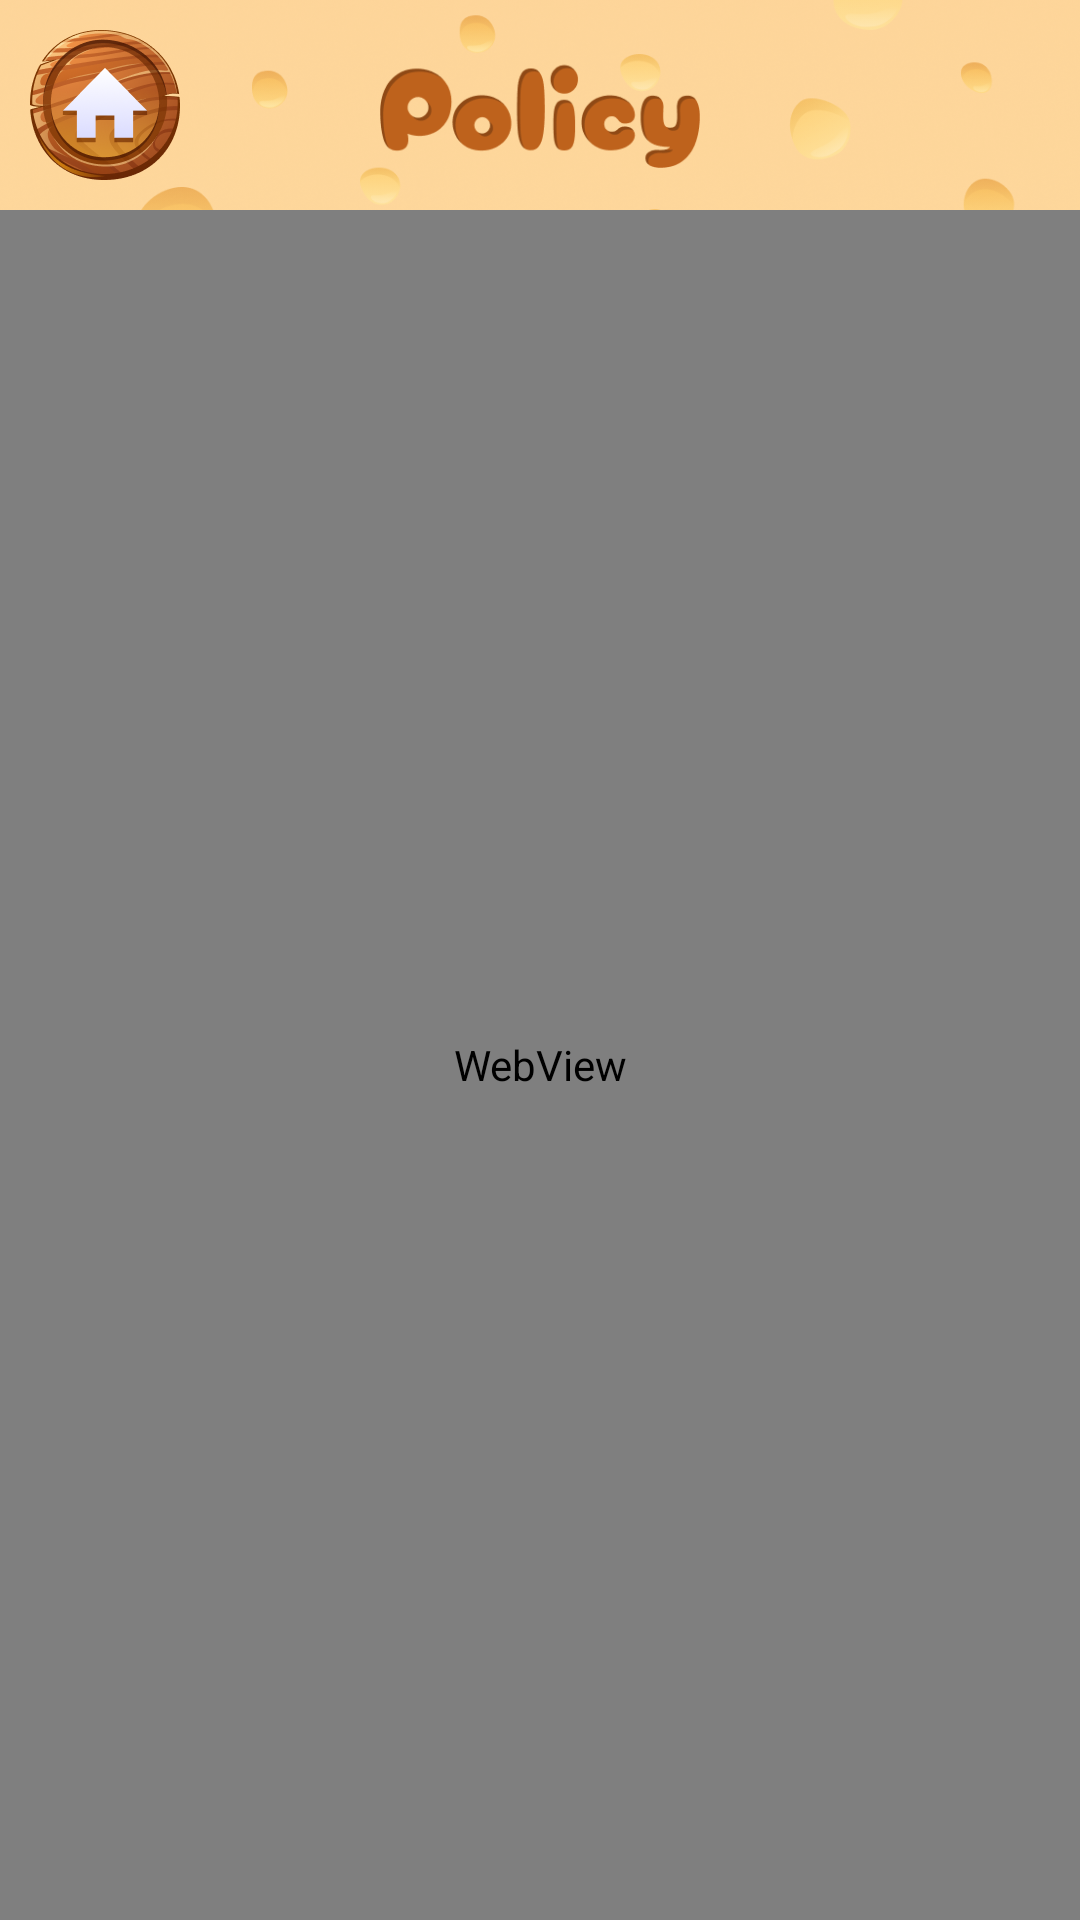

Icon click points for this 1080w x 1920h phone screenshot, format (x,y):
home sel: (105,105)
